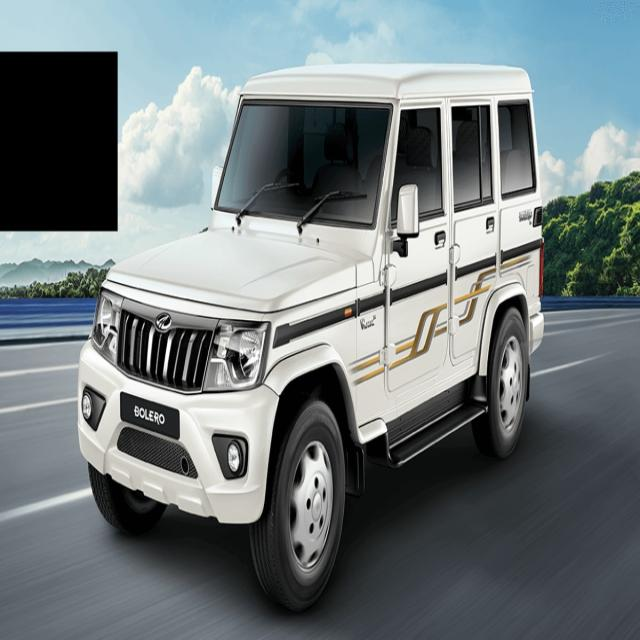light_vehicle: (75, 68, 549, 610)
